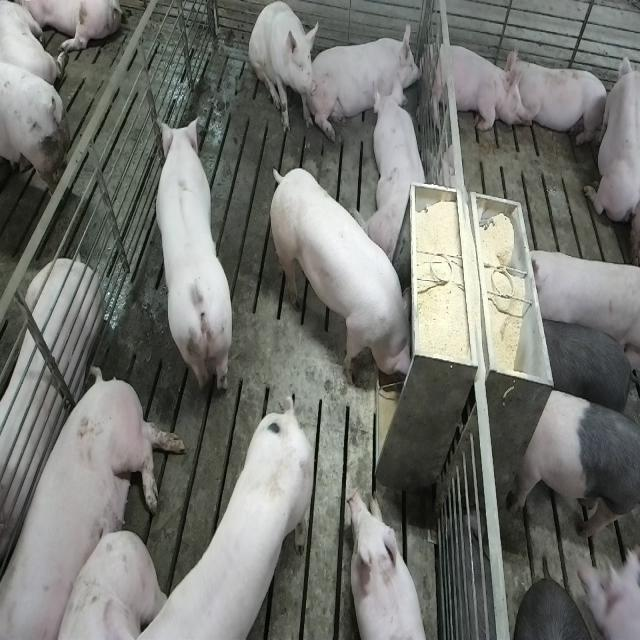Feeding: (273, 165, 421, 393)
Lateral_lying: (4, 362, 188, 636), (0, 257, 104, 577)
Sitting: (249, 2, 319, 138)
Standing: (131, 398, 322, 640), (152, 118, 234, 403), (513, 384, 639, 550), (526, 250, 638, 355), (534, 316, 638, 420)
Sternal_lying: (348, 485, 432, 640), (314, 24, 426, 133), (363, 78, 430, 259), (509, 51, 610, 148), (584, 42, 637, 226), (425, 37, 521, 135)
